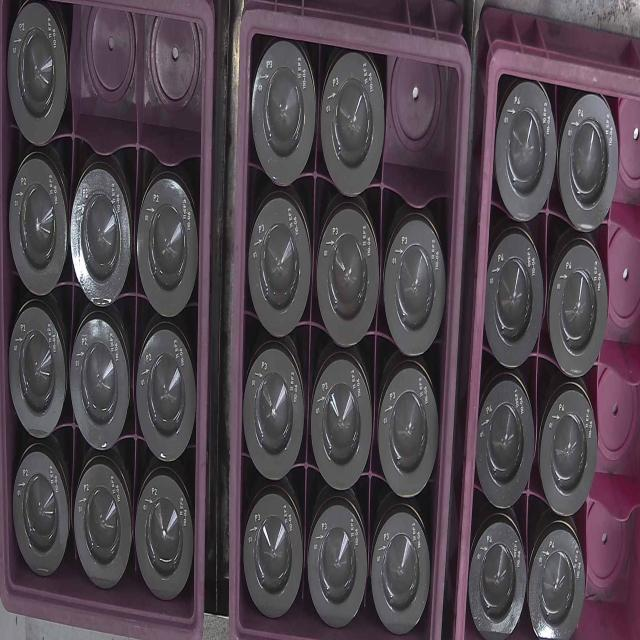P2: (5, 7, 70, 149), (70, 318, 131, 461), (139, 169, 195, 324), (10, 449, 70, 593), (72, 168, 130, 310), (72, 465, 132, 602), (136, 329, 198, 459), (136, 473, 192, 615), (3, 308, 67, 430), (10, 162, 65, 298)
P3: (322, 57, 385, 199), (316, 209, 377, 350), (253, 45, 314, 183), (379, 366, 437, 505), (249, 198, 307, 336), (309, 360, 373, 485), (241, 345, 302, 476), (386, 213, 441, 356), (309, 502, 366, 629), (243, 496, 300, 616), (374, 514, 432, 630)
P4: (497, 81, 555, 219), (539, 387, 599, 520), (561, 97, 617, 235), (551, 246, 608, 380), (486, 234, 543, 364), (478, 382, 533, 511), (529, 524, 585, 636), (471, 522, 524, 639)
